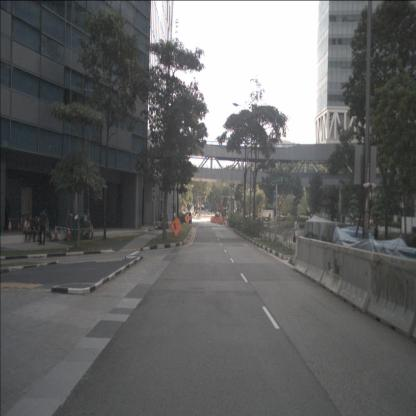barrier: (367, 252, 415, 341), (338, 245, 374, 314), (321, 241, 346, 297), (305, 239, 325, 285), (294, 236, 310, 277)
cone: (53, 225, 60, 241), (7, 218, 13, 233), (19, 218, 23, 232), (67, 228, 71, 242), (91, 227, 94, 240)
